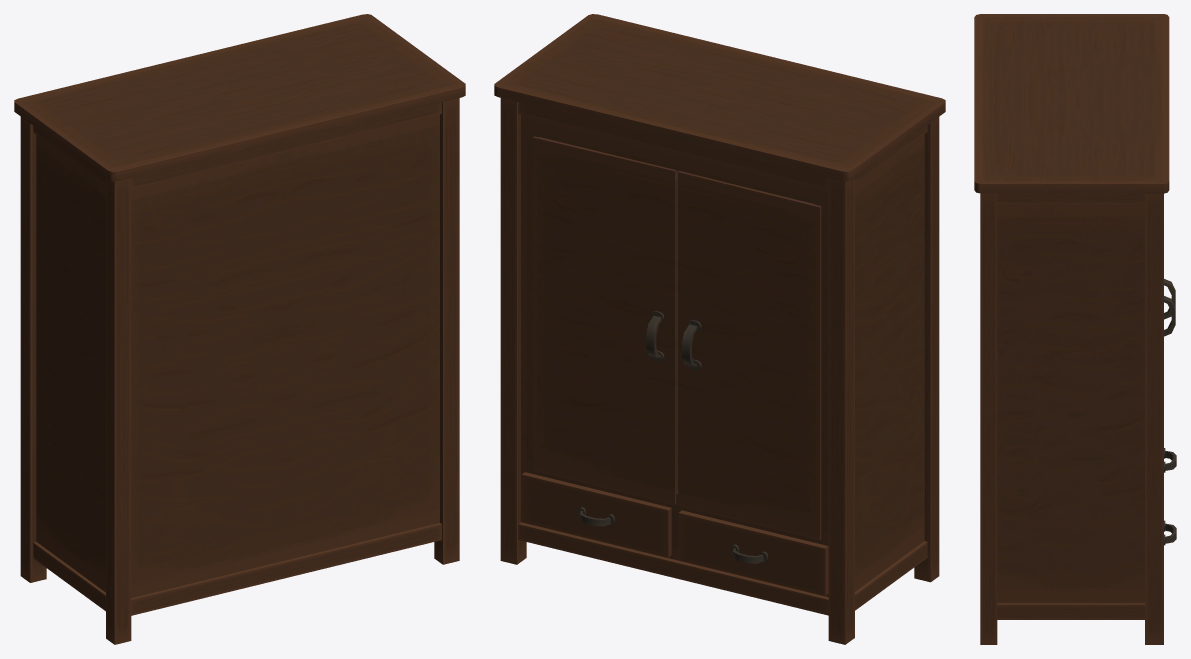
The model's file is Anim.fbx.
3 views of the same model, side by side, from view 1: azimuth 30°, elevation 25°; view 2: azimuth 150°, elevation 25°; view 3: azimuth 270°, elevation 25° (orthographic). The views are drawn at different scales.
Visible parts, largest first — view 1: Drawers; view 2: Drawers, DoorLeft, DoorRight; view 3: Drawers.
Boxes of the visible parts, bbox=[...] form: Drawers: bbox=[14, 14, 465, 644]; Drawers: bbox=[494, 14, 945, 644]; DoorLeft: bbox=[533, 136, 678, 504]; DoorRight: bbox=[678, 171, 821, 540]; Drawers: bbox=[974, 14, 1176, 644].
Bounding box in the file's own units: 2.72 × 3.46 × 1.37.
